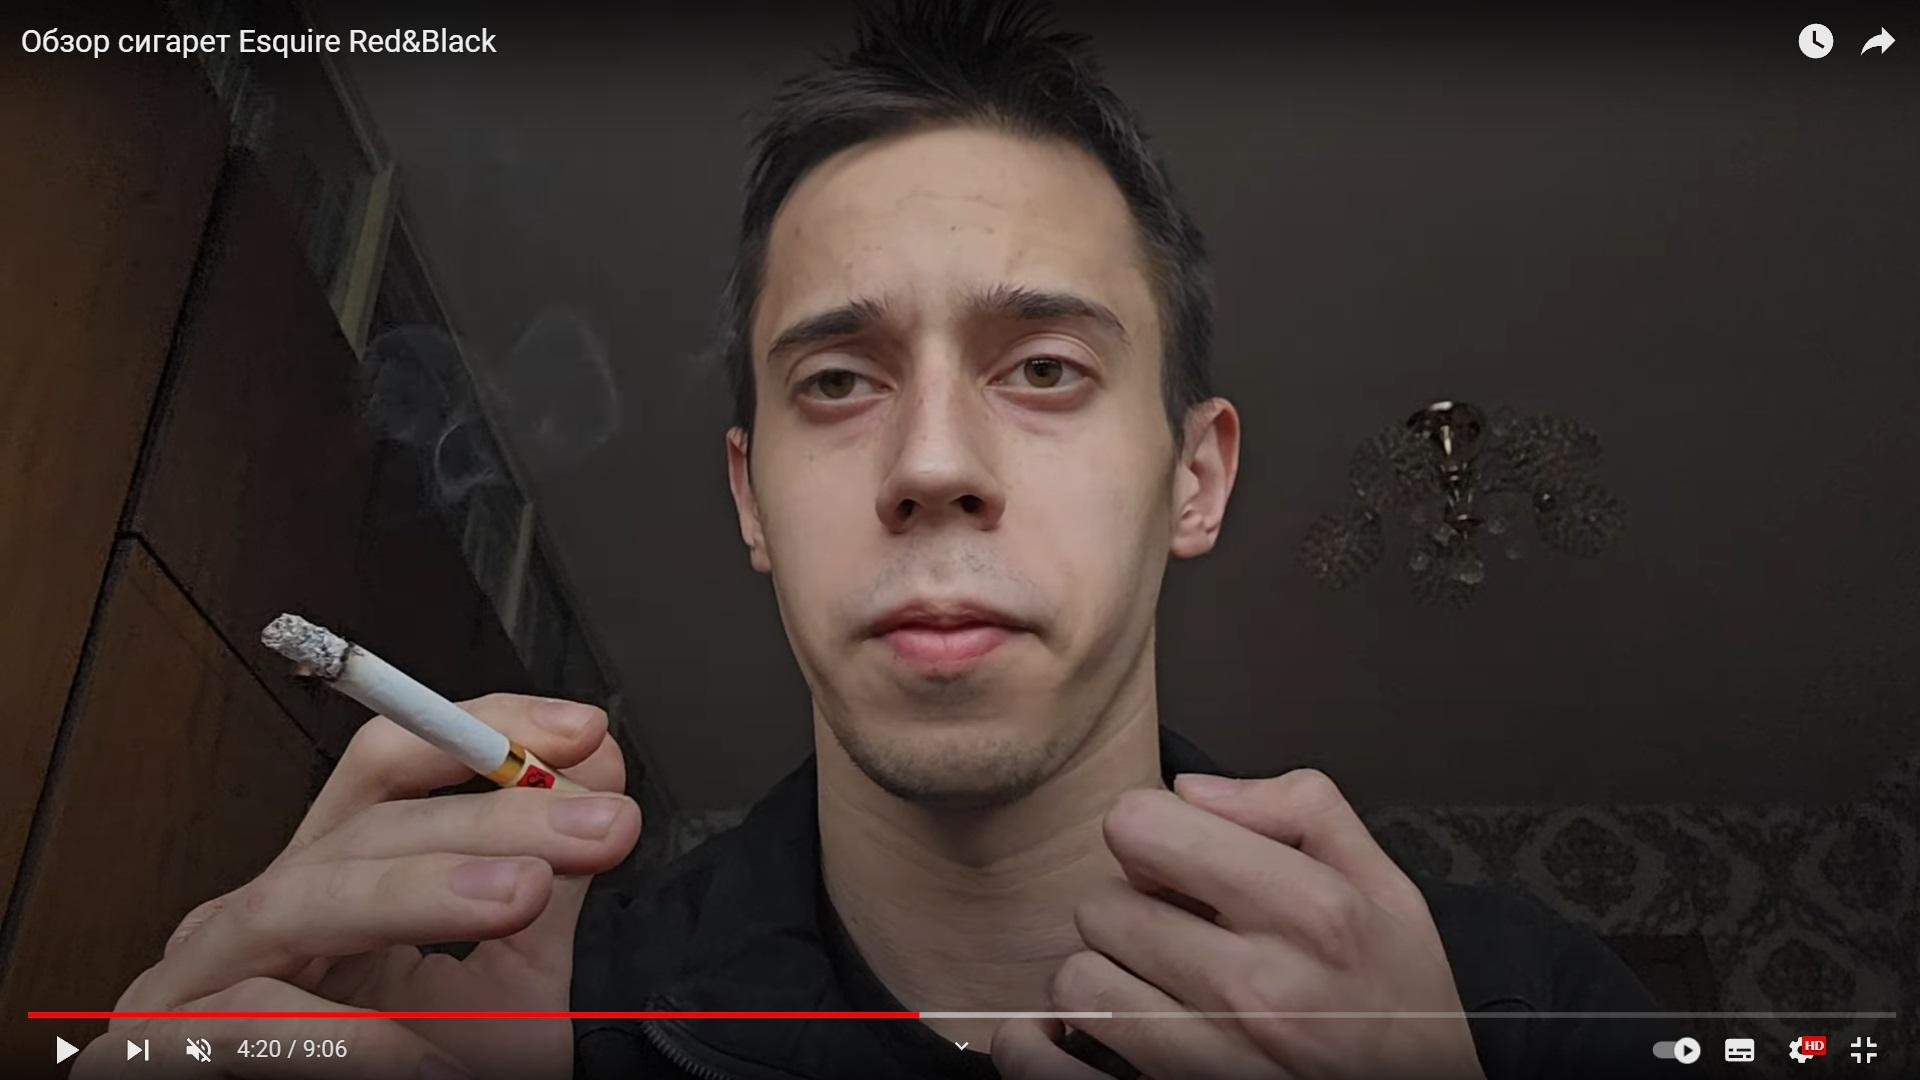cigarette: (261, 613, 596, 790)
